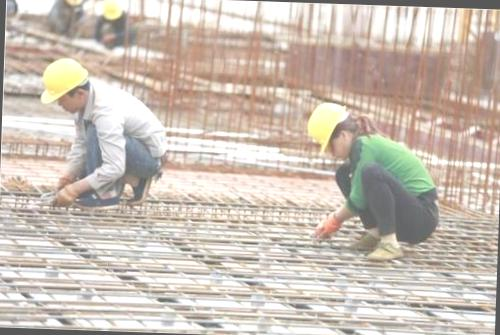no_helmet: (302, 99, 361, 158)
